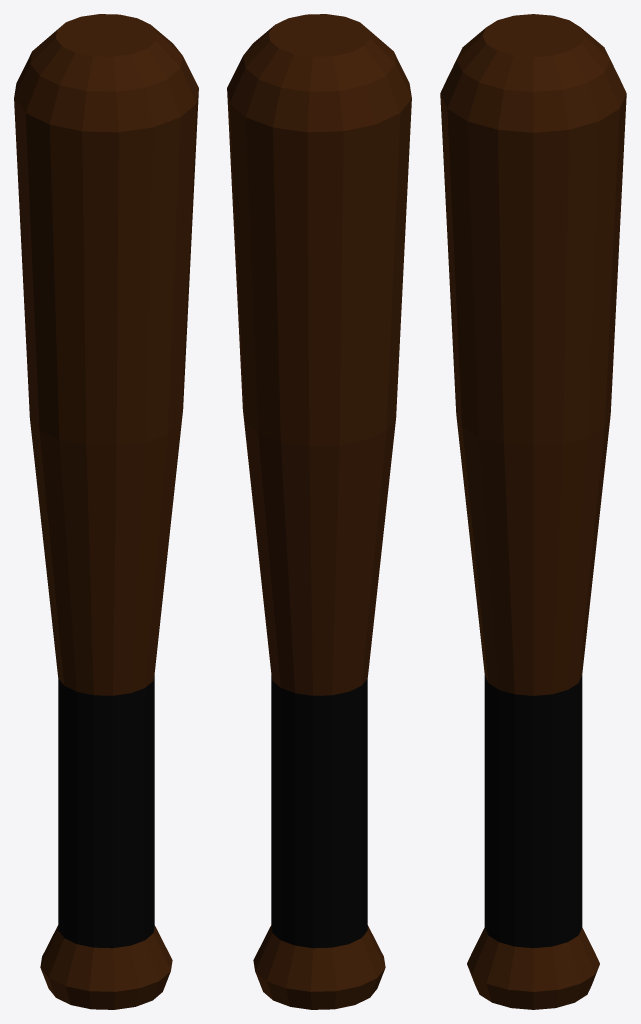
Rendered from baseball_bat.fbx.
3 renders of one model, left to right at view 1: azimuth 30°, elevation 25°; view 2: azimuth 150°, elevation 25°; view 3: azimuth 270°, elevation 25°, orthographic.
Parts seen in each view (by area): view 1: Cylinder; view 2: Cylinder; view 3: Cylinder.
Boxes of the visible parts, x1=… form: Cylinder: x1=14, y1=14, x2=198, y2=1009; Cylinder: x1=227, y1=14, x2=411, y2=1009; Cylinder: x1=440, y1=14, x2=626, y2=1009.
Bounding box in the file's own units: 36.12 × 203 × 36.12.
